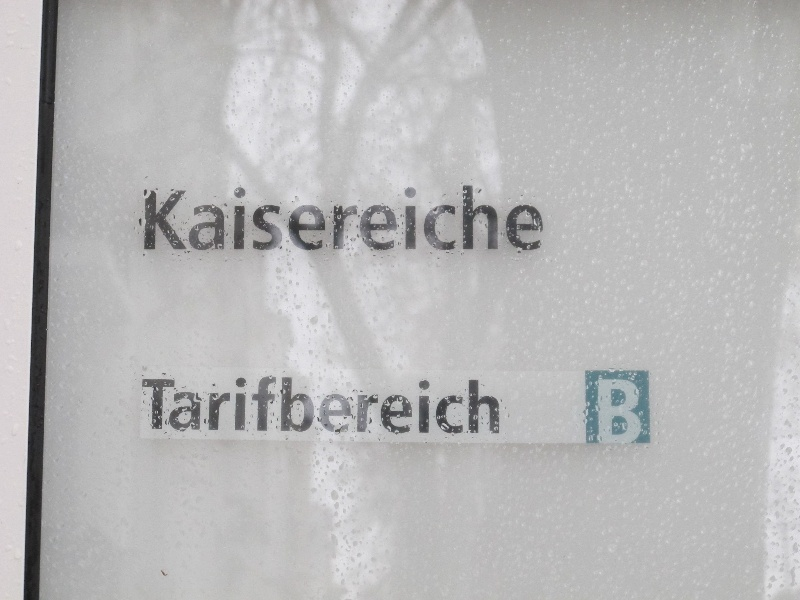text: (609, 379, 624, 445), (625, 379, 640, 445), (145, 186, 160, 251), (161, 186, 176, 251), (177, 186, 192, 251), (193, 186, 208, 251), (209, 186, 224, 251), (225, 186, 240, 251), (241, 186, 256, 251), (257, 186, 272, 251), (273, 186, 288, 251), (289, 186, 304, 251), (305, 186, 320, 251), (321, 186, 336, 251), (337, 186, 352, 251), (353, 186, 368, 251), (369, 186, 384, 251), (385, 186, 400, 251), (401, 186, 416, 251), (417, 186, 432, 251), (433, 186, 448, 251), (449, 186, 464, 251), (465, 186, 480, 251), (481, 186, 496, 251), (497, 186, 512, 251), (513, 186, 528, 251), (529, 186, 543, 251), (145, 374, 160, 434), (161, 374, 176, 434), (177, 374, 192, 434), (193, 374, 208, 434), (209, 374, 224, 434), (225, 374, 240, 434), (241, 374, 256, 434), (257, 374, 272, 434), (273, 374, 288, 434), (289, 374, 304, 434), (305, 374, 320, 434), (321, 374, 336, 434), (337, 374, 352, 434), (353, 374, 368, 434), (369, 374, 384, 434), (385, 374, 400, 434), (401, 374, 416, 434), (417, 374, 432, 434), (433, 374, 448, 434), (449, 374, 464, 434), (465, 374, 480, 434), (481, 374, 496, 434), (597, 379, 608, 445), (497, 374, 500, 434), (142, 374, 144, 434), (641, 379, 642, 445), (143, 186, 144, 251)
